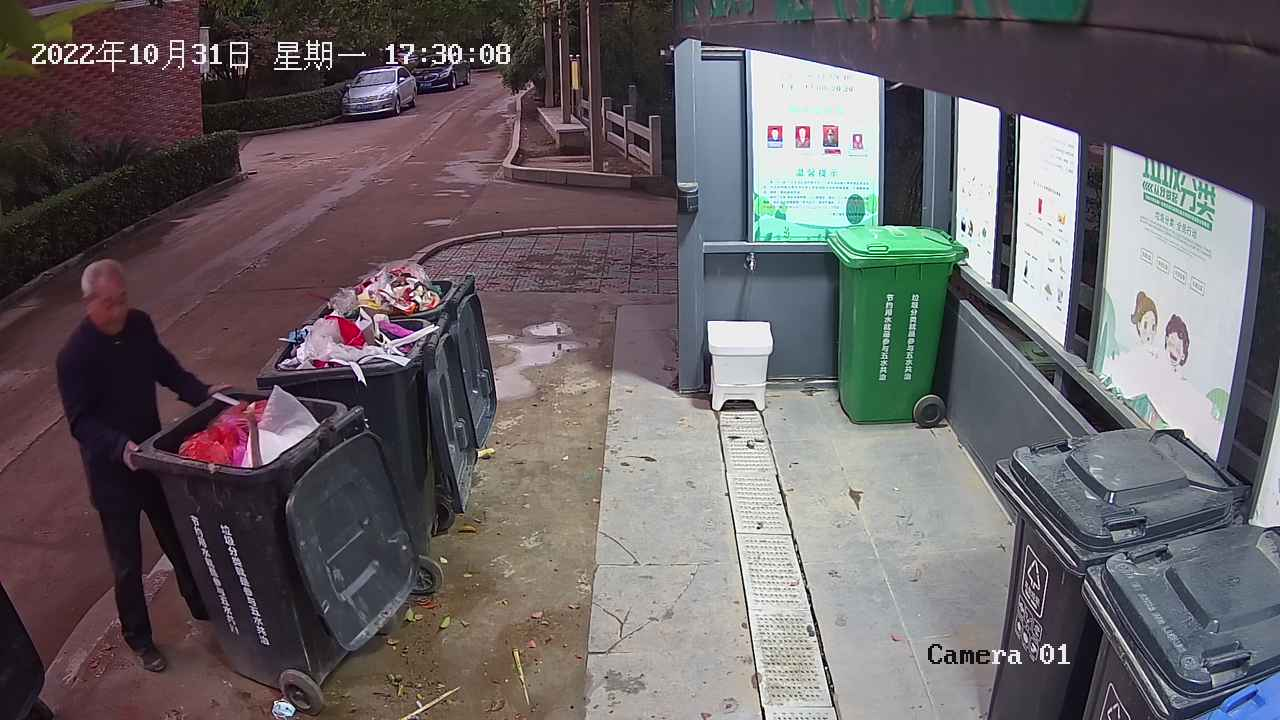person: (54, 257, 242, 673)
